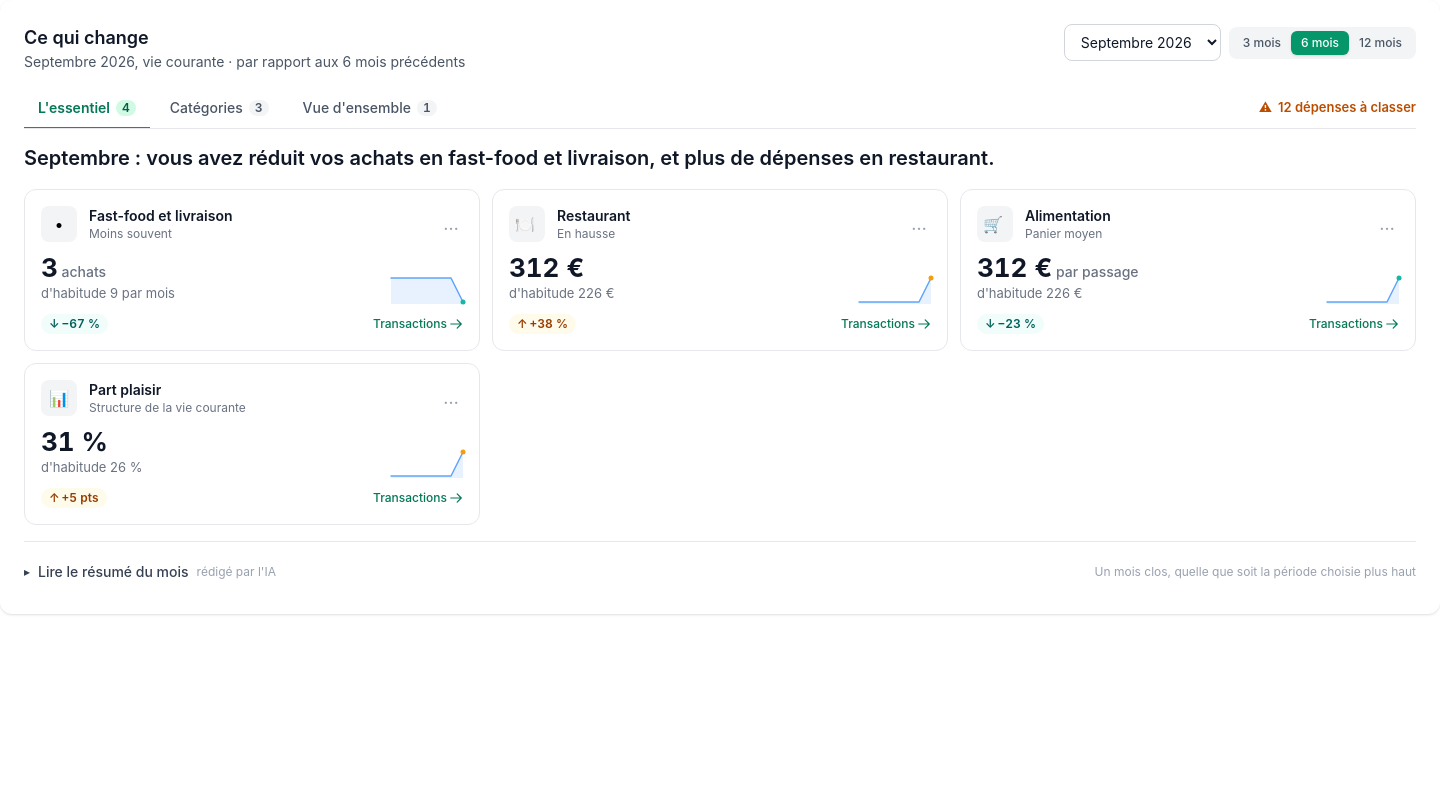
Test: SpendingTrendsCard › the written paragraph (lot 5) › says when the paragraph was written from figures that have changed since
Click the button with test id "trends-digest-toggle" at coordinates (150, 572), box [24, 554, 276, 590]
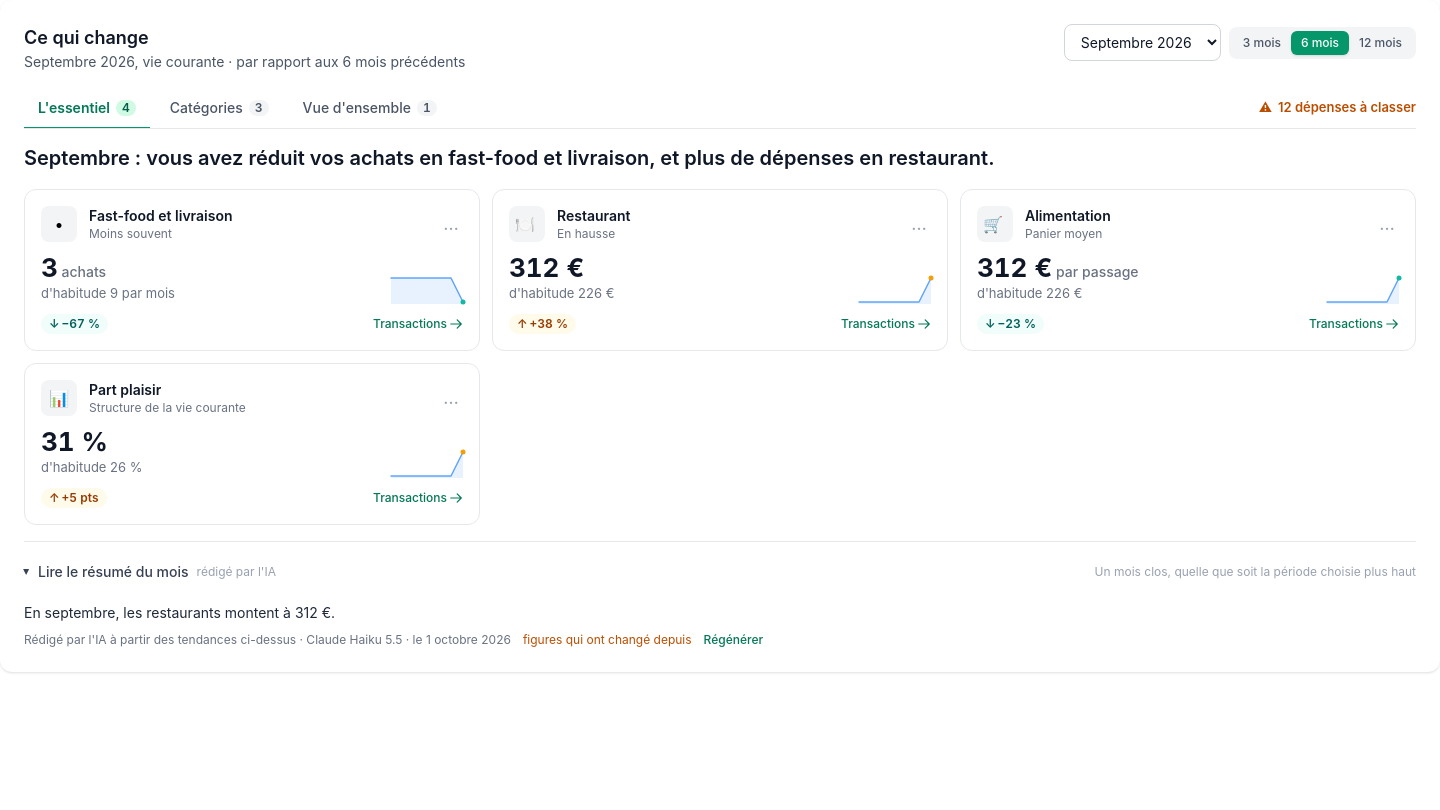
Now the text with test id "trends-digest-stale" reads "figures qui ont changé depuis", box [523, 632, 692, 647]
Now the button with test id "trends-digest-regenerate" reads "Régénérer", box [704, 632, 763, 648]
